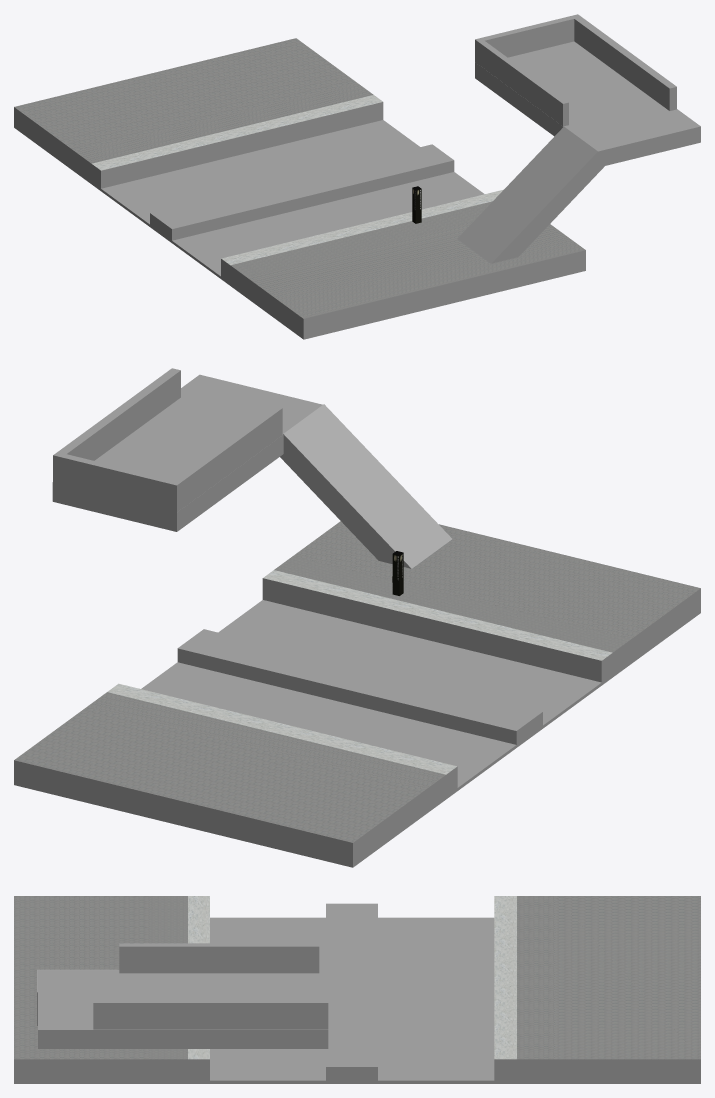
Rendered from Smithsonian_Metro.fbx.
3 views of the same model, one above another, from view 1: azimuth 30°, elevation 25°; view 2: azimuth 150°, elevation 25°; view 3: azimuth 270°, elevation 25° (orthographic). The views are drawn at different scales.
Visible parts, largest first — view 1: pCube2, pCube4, pCube3, pCube5; view 2: pCube2, pCube4, pCube3, pCube5; view 3: pCube2, pCube4, pCube5.
Part boxes in pixels (x1,y1,x2,y2): pCube2: (14, 38, 585, 339); pCube4: (475, 41, 700, 165); pCube3: (457, 127, 607, 263); pCube5: (475, 14, 676, 126); pCube2: (14, 521, 700, 867); pCube4: (52, 374, 322, 531); pCube3: (280, 404, 451, 568); pCube5: (53, 368, 282, 512); pCube2: (14, 896, 700, 1083); pCube4: (38, 970, 328, 1048); pCube5: (93, 943, 328, 1029).
Bounding box in the file's own units: 69.35 × 21.03 × 85.45.
9 materials, 7 textured.
